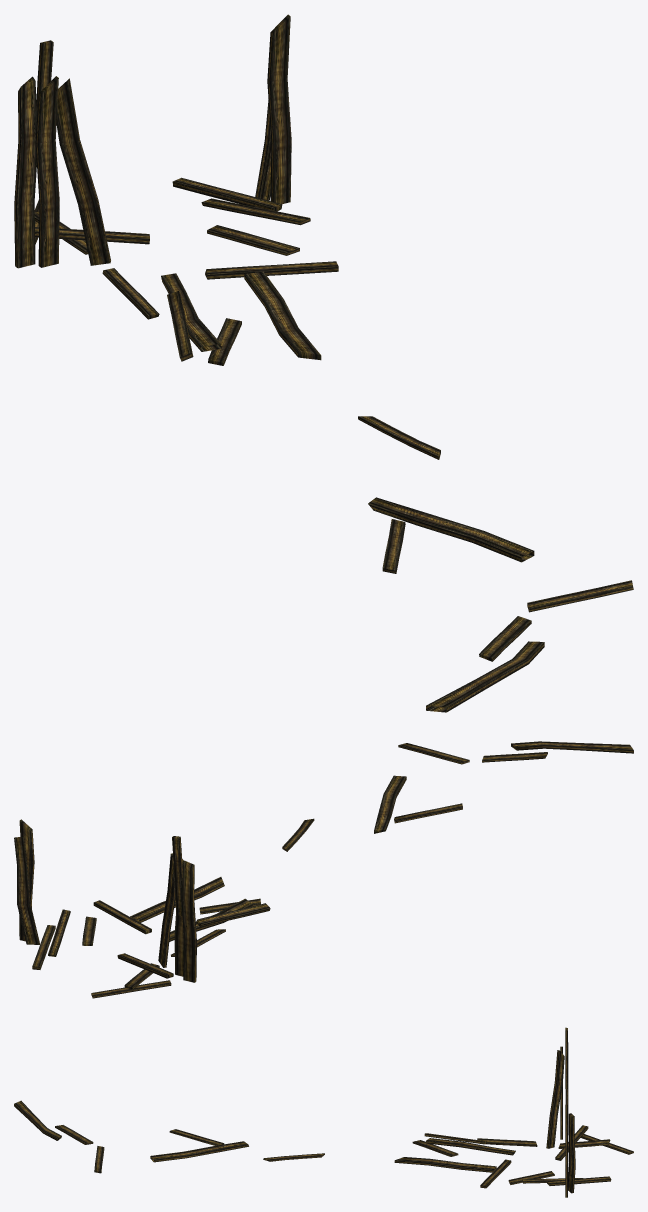
The model's file is CB_EXPLODING_WALL_ENDSTATE.fbx.
3 renders of one model, top to bottom at view 1: azimuth 30°, elevation 25°; view 2: azimuth 150°, elevation 25°; view 3: azimuth 270°, elevation 25°, orthographic. The views are drawn at different scales.
Parts seen in each view (by area): view 1: CB_EXPLODING_WALL_ENDSTATE; view 2: CB_EXPLODING_WALL_ENDSTATE; view 3: CB_EXPLODING_WALL_ENDSTATE.
Part boxes in pixels (box(x1,y1,x2,y2)): CB_EXPLODING_WALL_ENDSTATE: box(14, 14, 633, 712); CB_EXPLODING_WALL_ENDSTATE: box(14, 741, 633, 998); CB_EXPLODING_WALL_ENDSTATE: box(14, 1027, 633, 1197).
Size of the model in its own units: 161454 by 86368 by 420127.
Materials: 1 (1 with a texture image).
